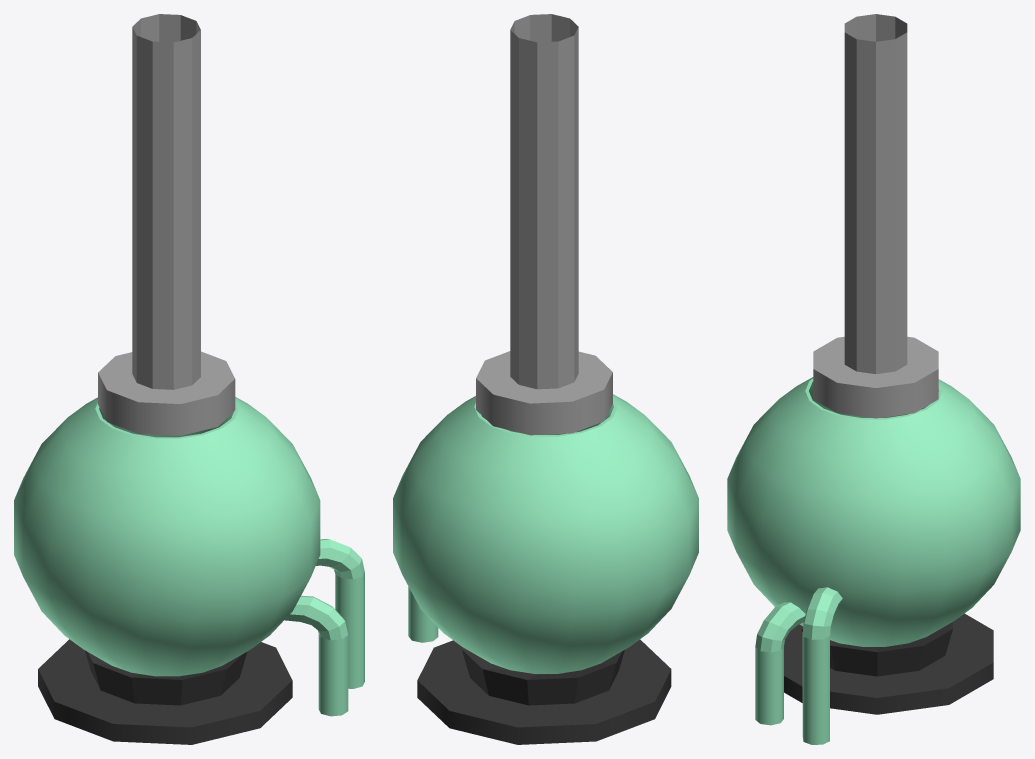
Rendered from Reactor.FBX.
3 views of the same model, side by side, from view 1: azimuth 30°, elevation 25°; view 2: azimuth 150°, elevation 25°; view 3: azimuth 270°, elevation 25° (orthographic). The views are drawn at different scales.
Parts seen in each view (by area): view 1: G_Reactor; view 2: G_Reactor; view 3: G_Reactor.
Boxes of the visible parts, x1,y1,x2,y2 form: G_Reactor: (14,14,364,744); G_Reactor: (393,14,698,744); G_Reactor: (727,14,1020,744).
Bounding box in the file's own units: 15.92 × 34.39 × 14.27.
